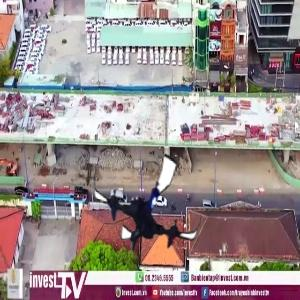drone: (88, 142, 209, 263)
